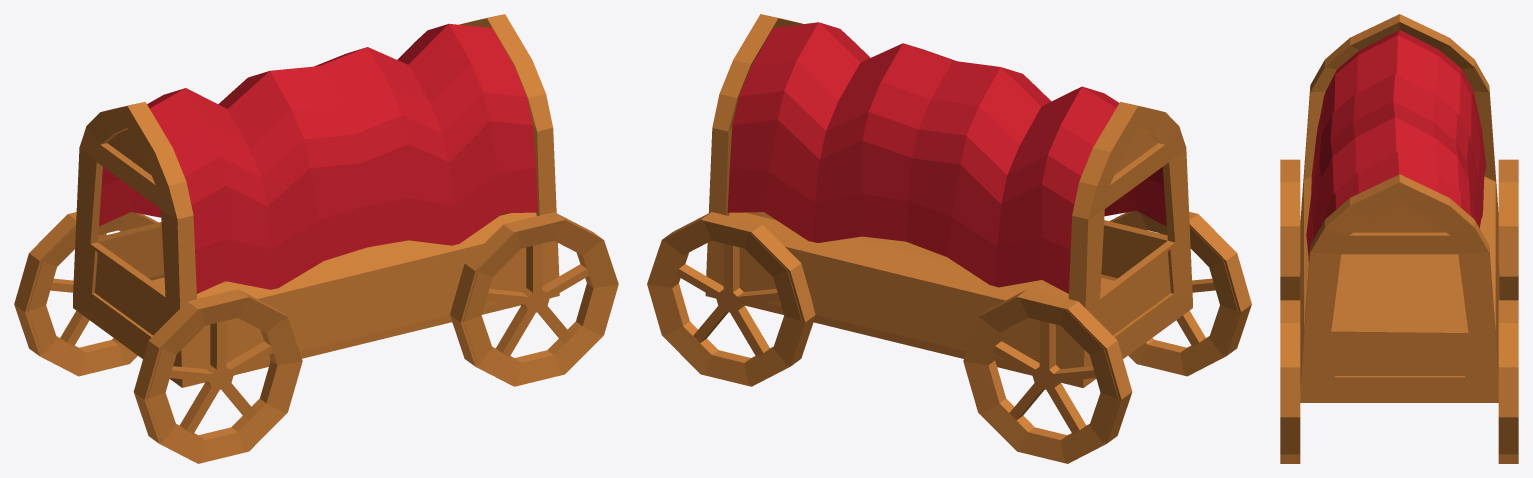
File: TravelingCart.fbx
The picture shows the model from 3 angles, left to right: view 1: azimuth 30°, elevation 25°; view 2: azimuth 150°, elevation 25°; view 3: azimuth 270°, elevation 25°; orthographic projection. The views are drawn at different scales.
Parts seen in each view (by area): view 1: Cube; view 2: Cube; view 3: Cube.
Part boxes in pixels (x1,y1,x2,y2): Cube: [14, 14, 618, 463]; Cube: [647, 14, 1251, 463]; Cube: [1280, 14, 1518, 463].
Size of the model in its own units: 501 by 319 by 238.
